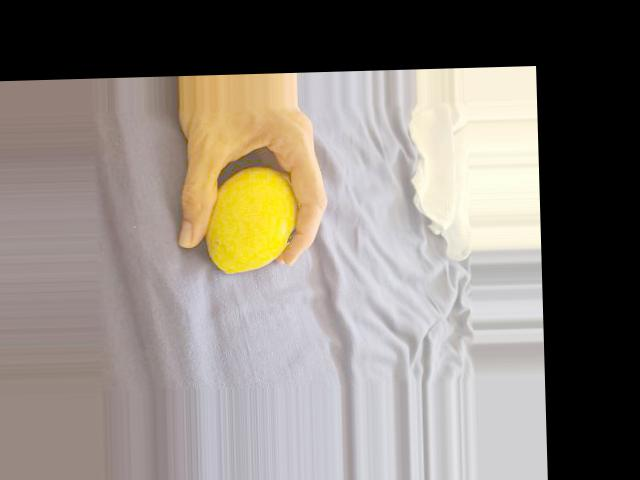lemon: (206, 167, 306, 274)
